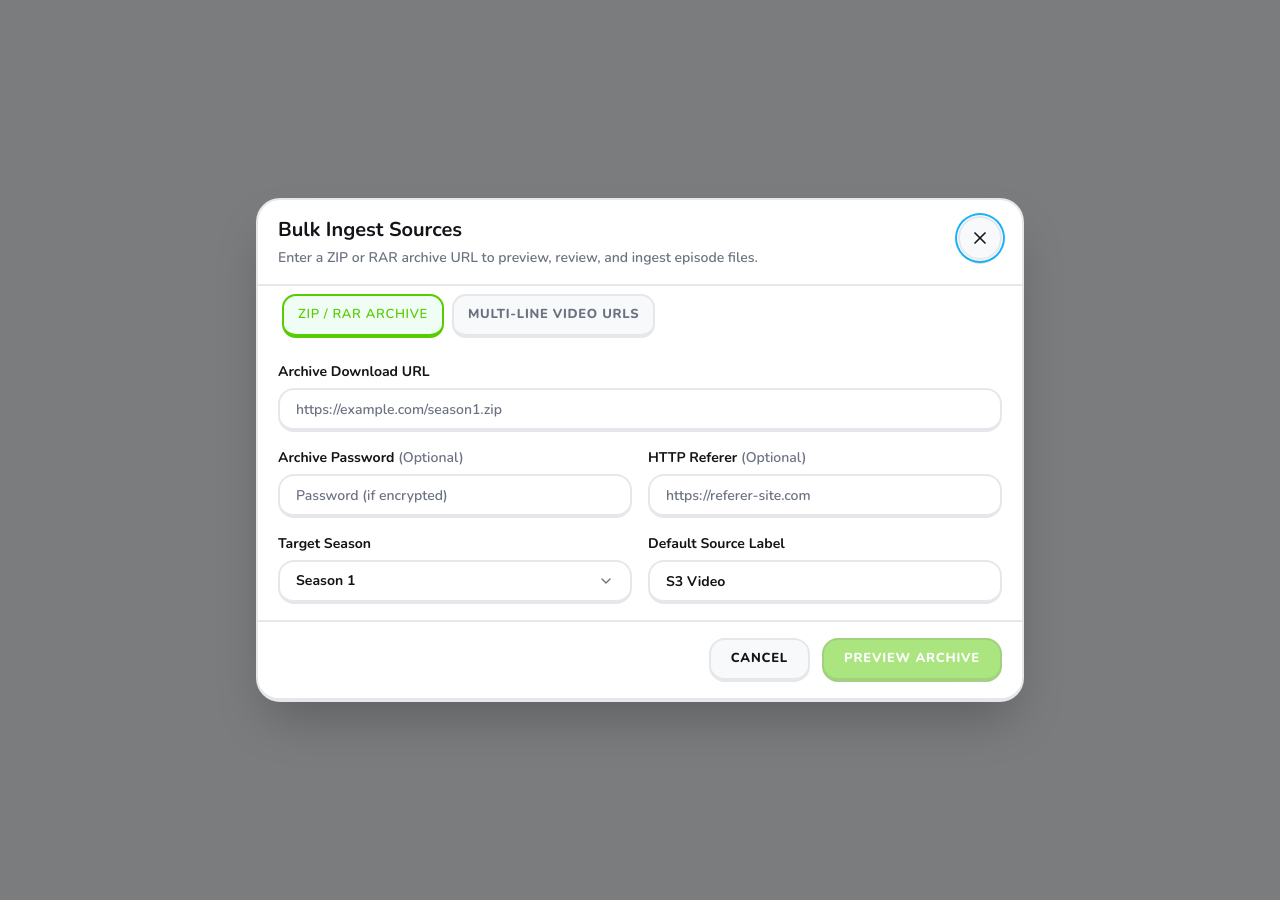
Test case: BulkIngestModal component › allows manual combobox re-matching and row editing in Step 2
The width and height of the screenshot is (1280, 900).
Click the tab with test id "tab-url" at (554, 316), box [452,294,655,338]
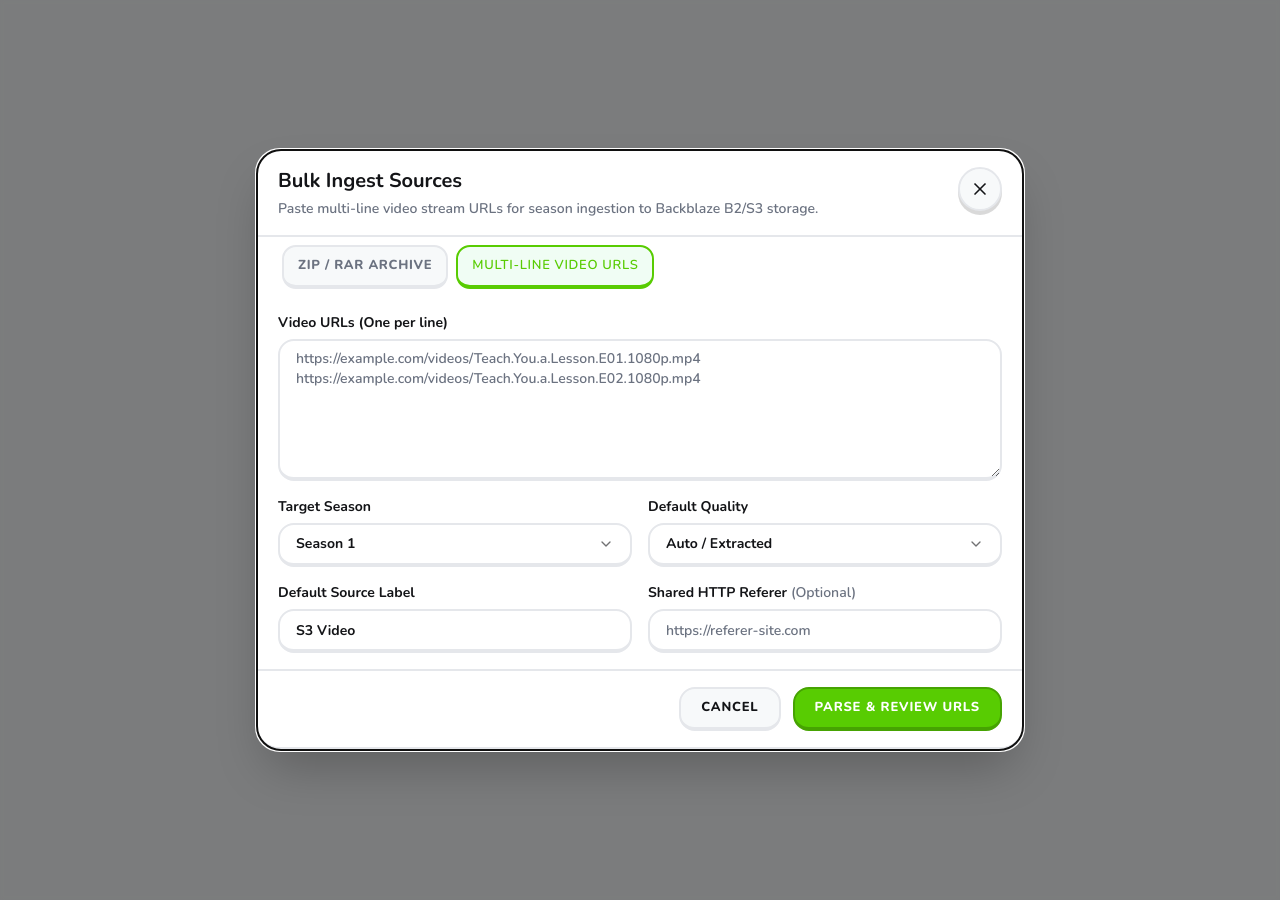
Now the text box with test id "bulk-ingest-urls-textarea" is shown
Type "https://cdn.com/random_hash_99.mp4" into the text box with test id "bulk-ingest-urls-textarea" at (640, 410), box [278,339,1002,481]
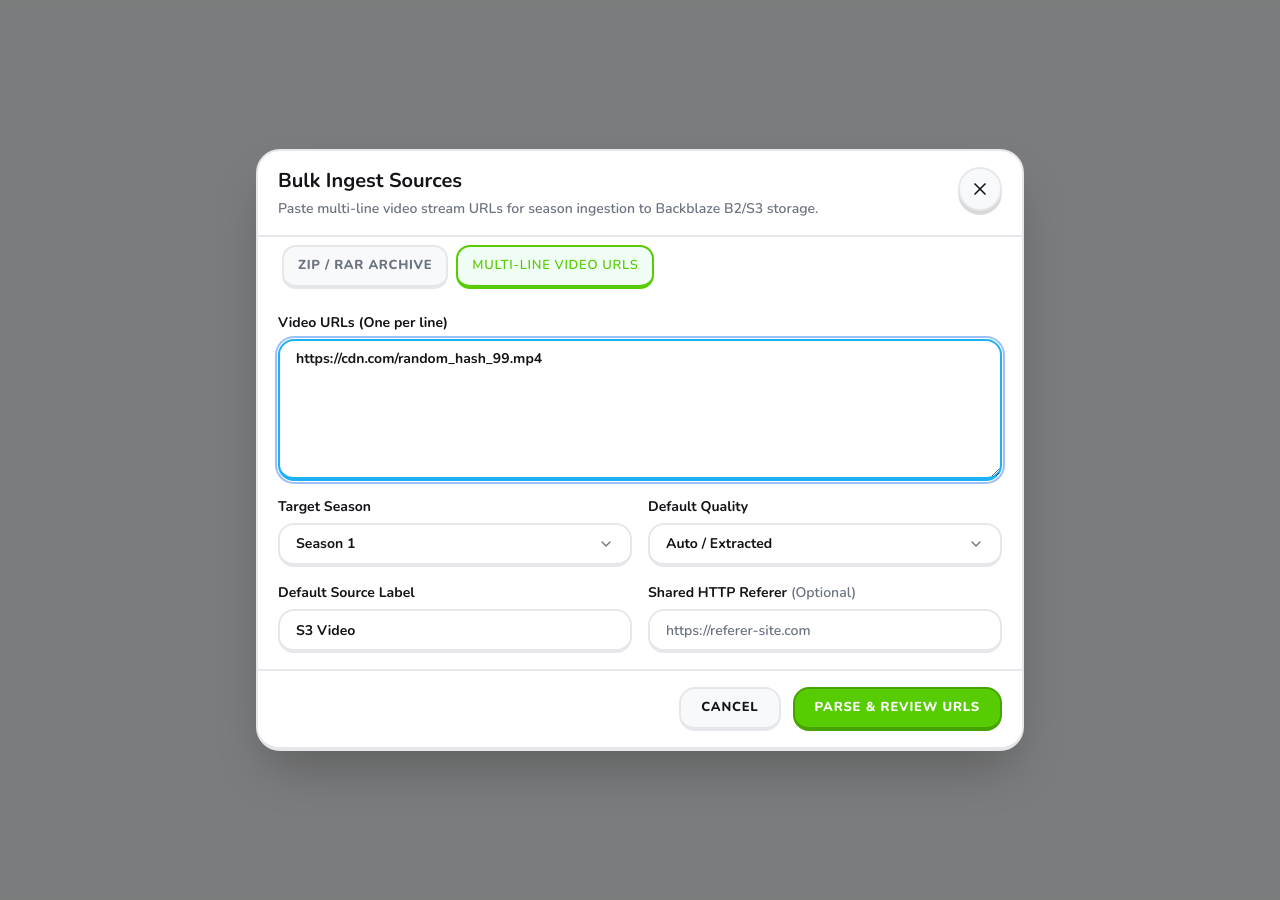
Click the button with test id "bulk-ingest-parse-btn" at (897, 709), box [793,687,1002,731]
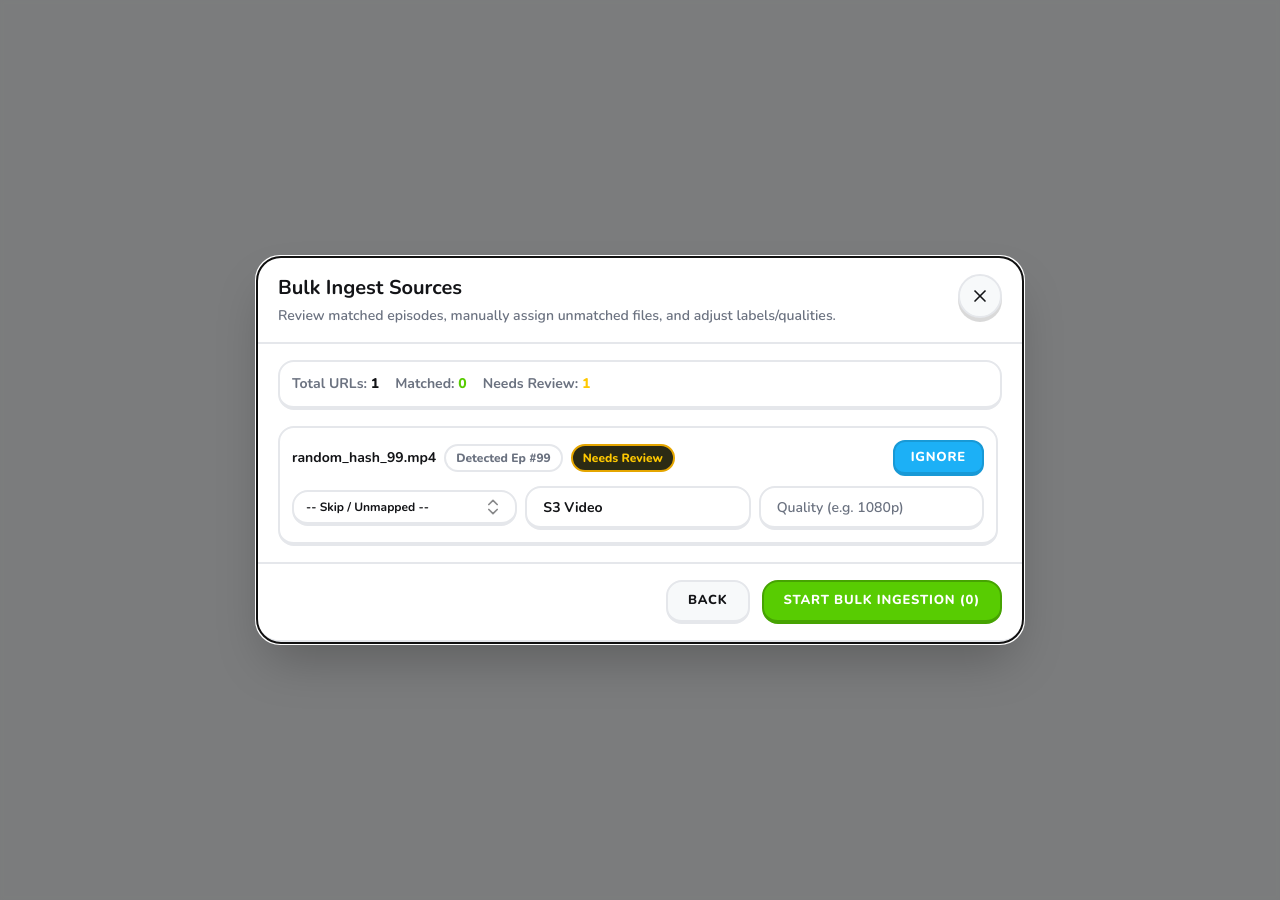
Now the element with test id "bulk-ingest-row-0" is shown, box [278,426,998,546]
Now the dropdown named "Target episode for random_hash_99.mp4" reads "-- Skip / Unmapped --"
Click the dropdown named "Target episode for random_hash_99.mp4" at (405, 508), box [292,490,517,526]
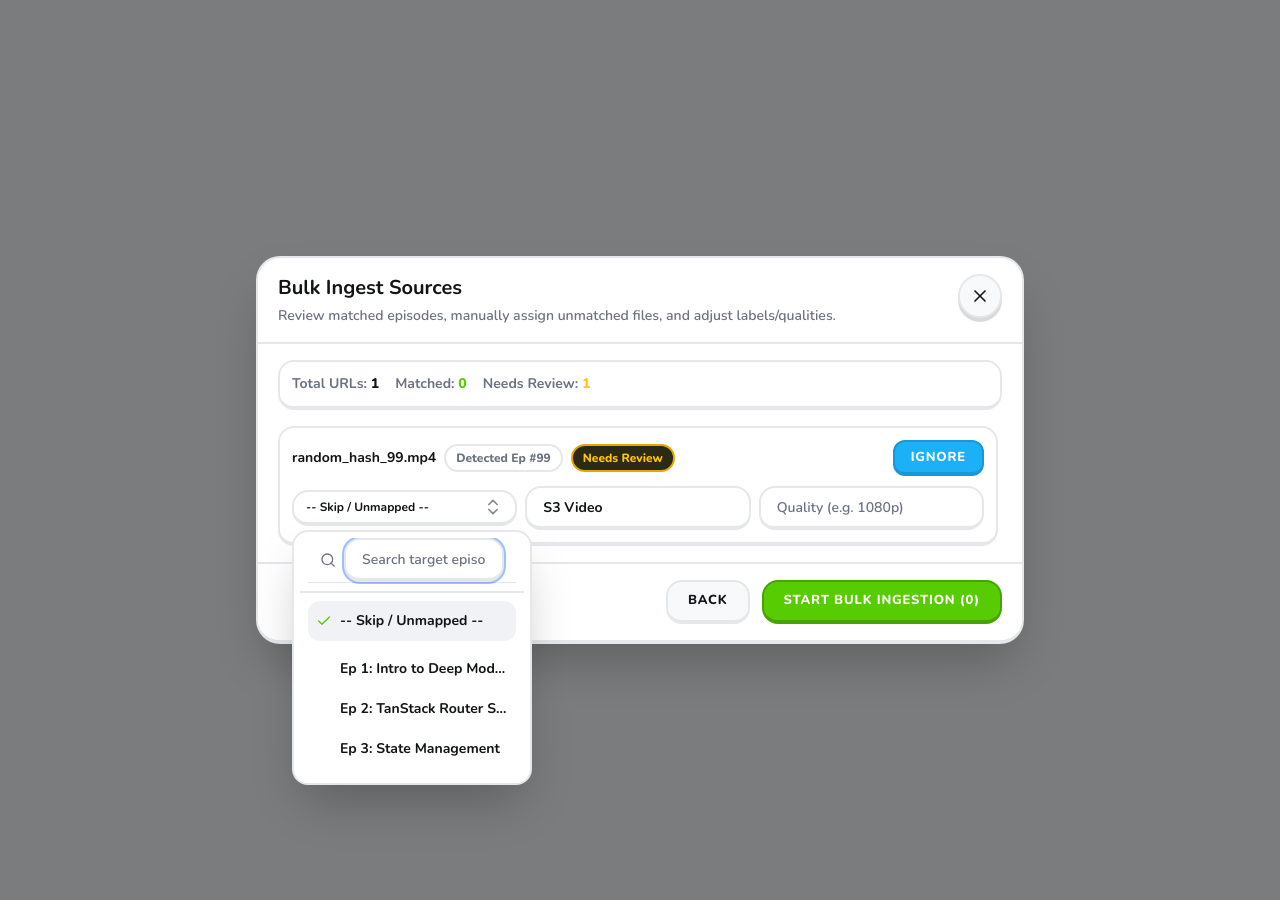
Click the option "Ep 2: TanStack Router Setup" at (433, 708), box [340,699,525,718]
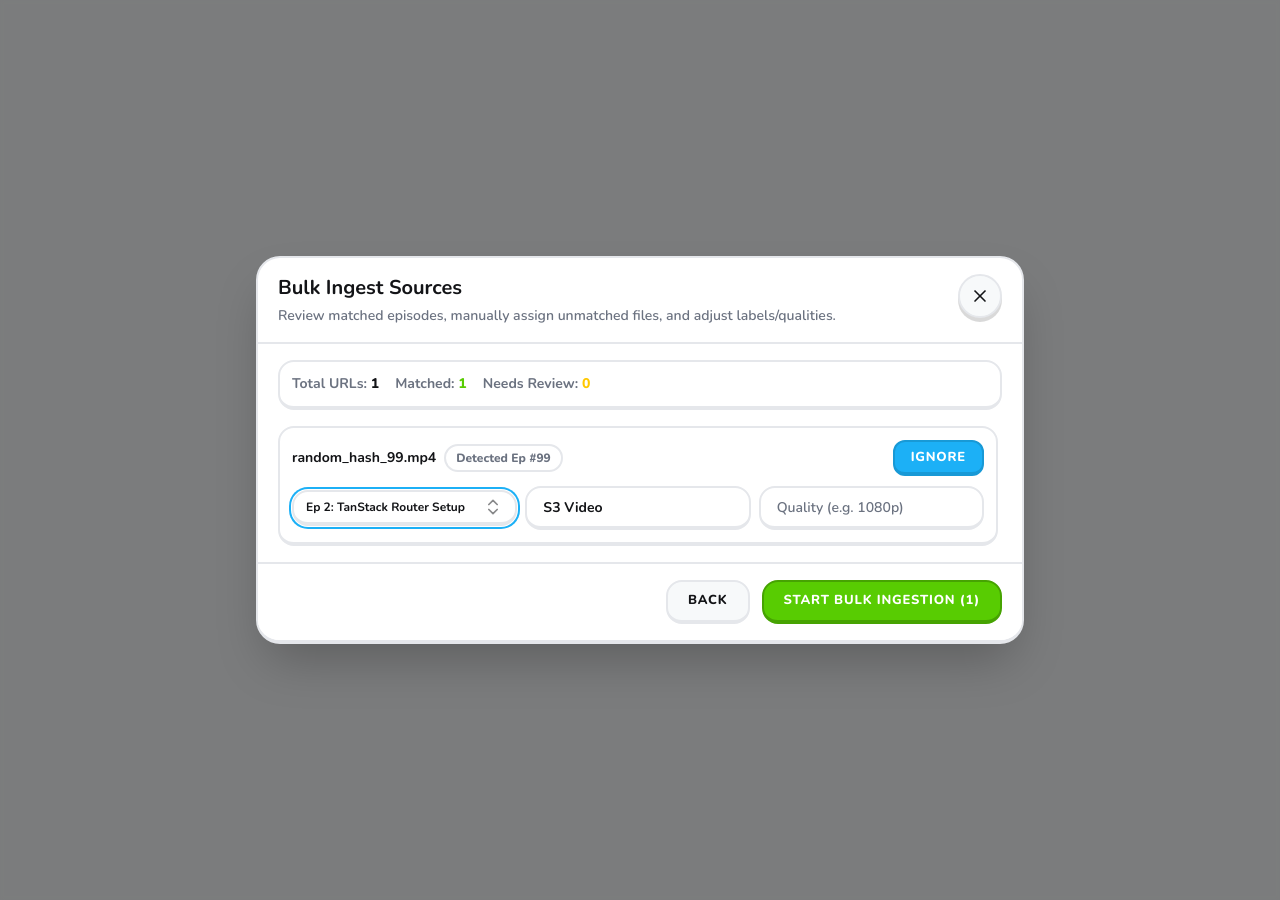
Now the dropdown named "Target episode for random_hash_99.mp4" reads "Ep 2: TanStack Router Setup", box [292,490,517,526]
